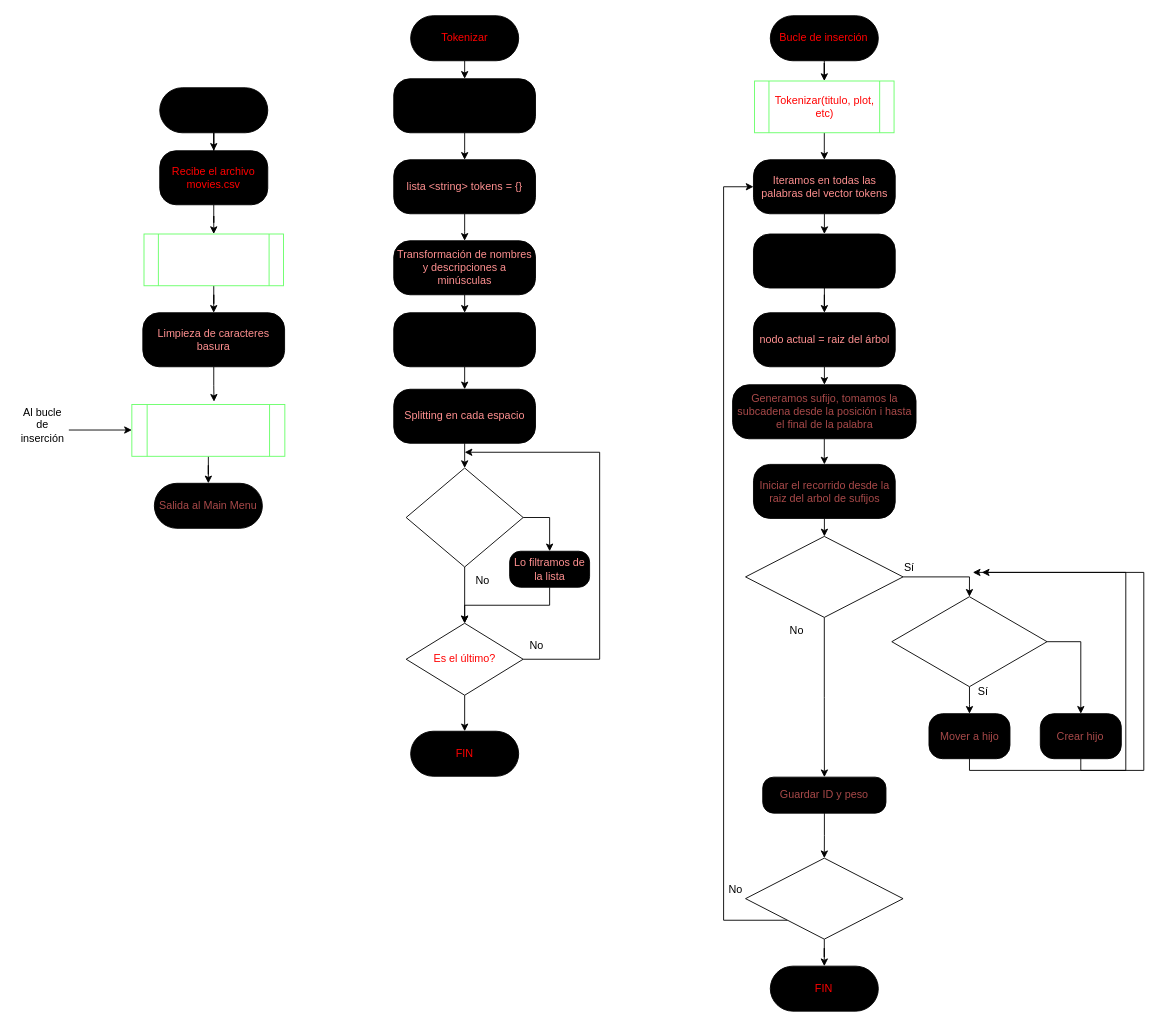
The diagram is 1166 pixels wide and 1027 high, and some of its shapes have lost their labels. Each missing label, with the centre of its shape:
Bucle de inserción (palabra, id, peso): (x=208, y=430)
El string es "el", "la", "en", "de" y lenght <= 2?: (x=464, y=517)
Eliminar símbolos y acentos: (x=464, y=339)
Es la ultima palabra de tokens?: (x=824, y=898)
Existe un nodo hijo con este caracter?: (x=969, y=641)
INICIO: (x=213, y=110)
Lectura CSV: (x=213, y=259)
lenght = longitud de la palabra: (x=824, y=260)
Quedan caracteres en el sufijo?: (x=824, y=576)
Se recibe el string correspondiente del csv: (x=464, y=105)
